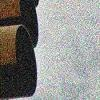traffic lights: (0, 0, 43, 100)
